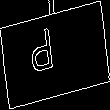P_S: (40, 27, 70, 83)
